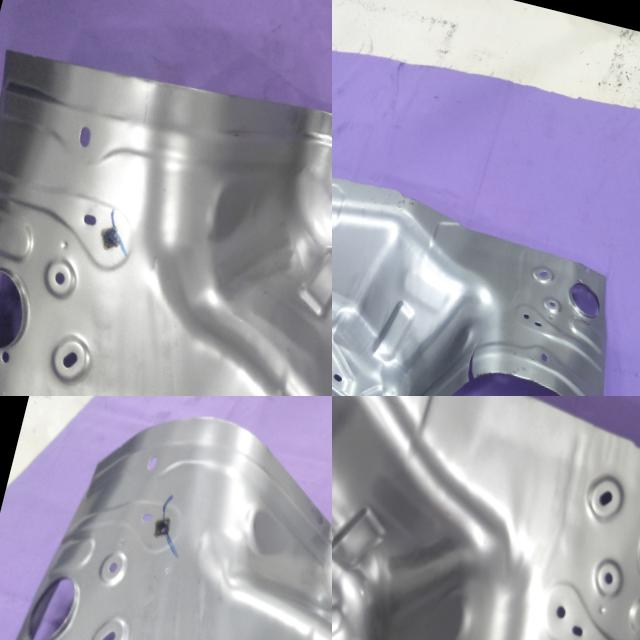Defect: (446, 328, 496, 395)
Healthy: (0, 24, 332, 396), (0, 396, 332, 640)
